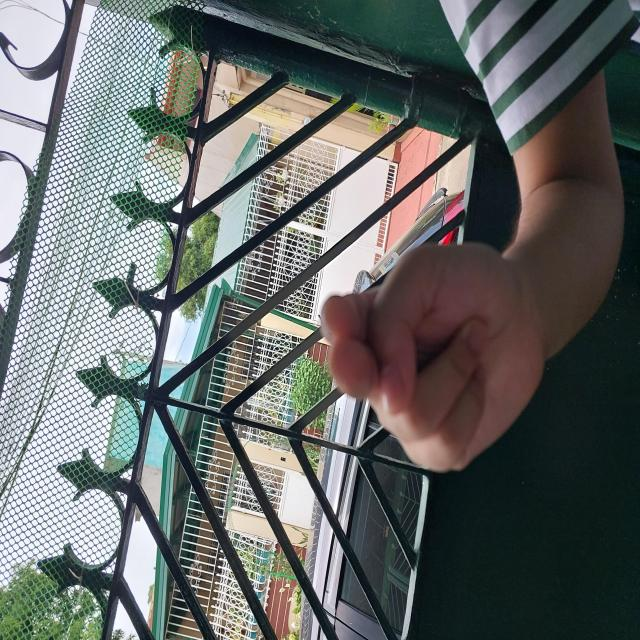N_TILDE: (267, 177, 586, 512)
